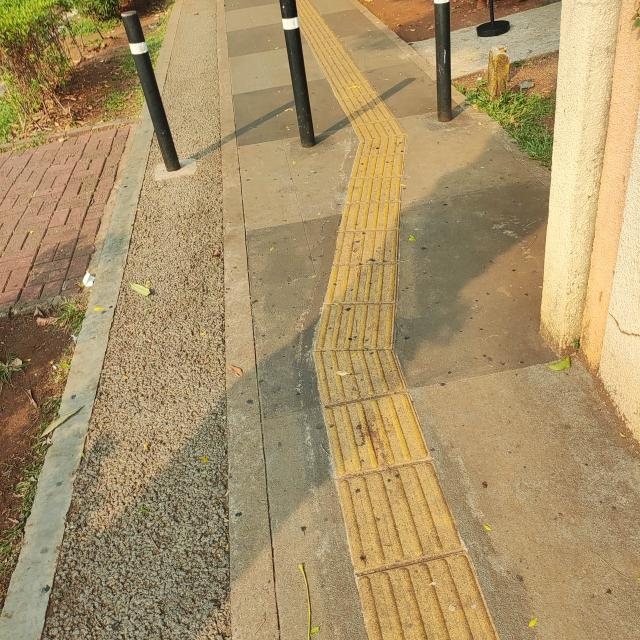lurus: (274, 306, 492, 640), (311, 0, 388, 157)
